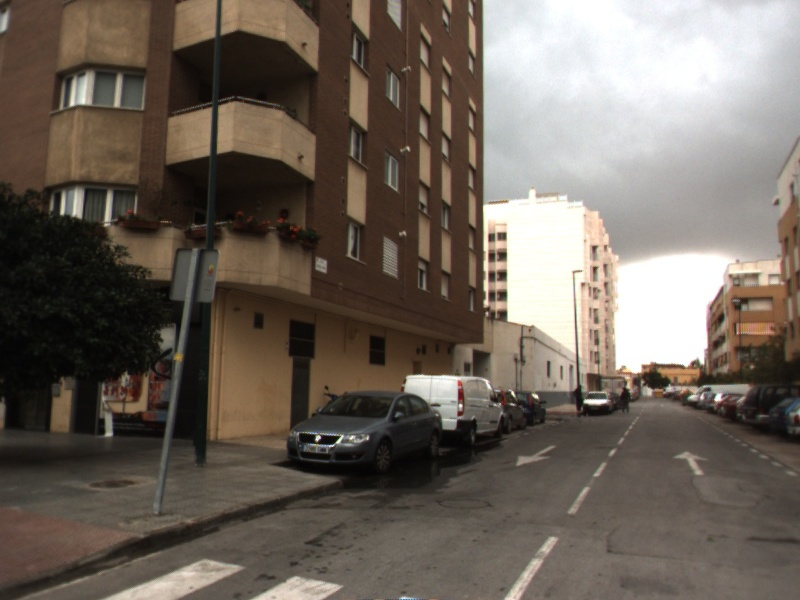STRAIGHT: (670, 448, 712, 477)
